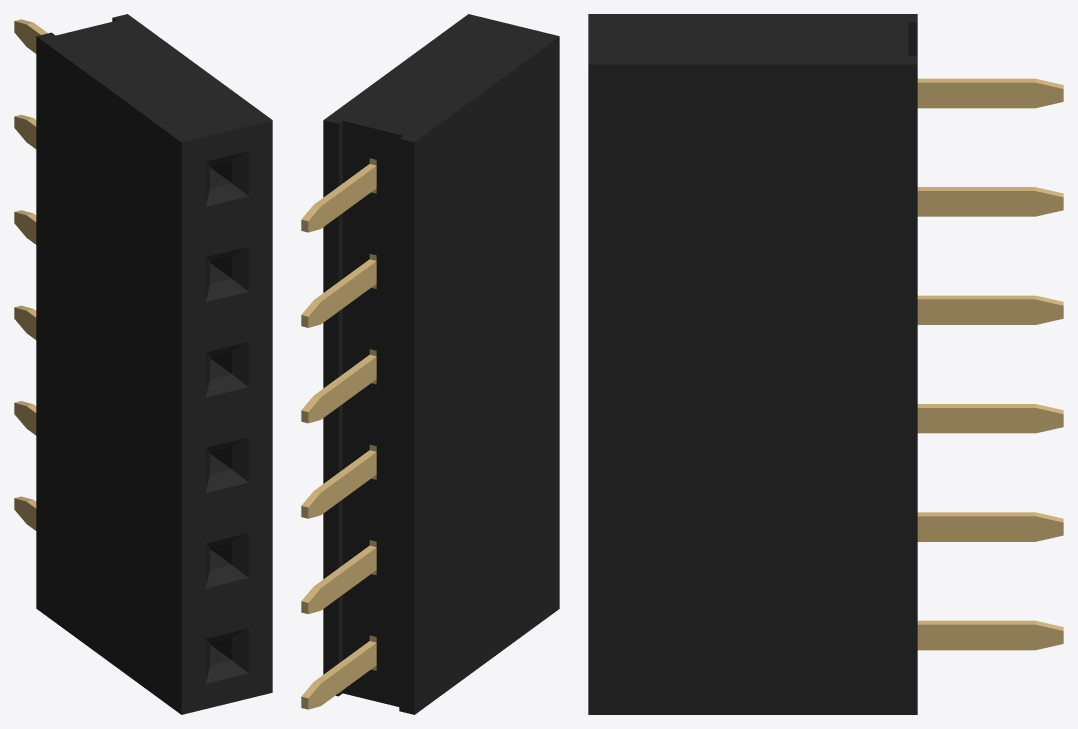
File: PinSocket_1x06_P2.54mm_Vertical.glb
3 renders of one model, left to right at view 1: azimuth 30°, elevation 25°; view 2: azimuth 150°, elevation 25°; view 3: azimuth 270°, elevation 25°, orthographic. The views are drawn at different scales.
Parts seen in each view (by area): view 1: PinSocket_1x06_P254mm_Vertical_94bbaa, PinSocket_1x06_P254mm_Vertical_2e271b; view 2: PinSocket_1x06_P254mm_Vertical_94bbaa, PinSocket_1x06_P254mm_Vertical_2e271b; view 3: PinSocket_1x06_P254mm_Vertical_94bbaa, PinSocket_1x06_P254mm_Vertical_2e271b.
Part boxes in pixels (box(x1,y1,x2,y2)): PinSocket_1x06_P254mm_Vertical_94bbaa: box(36, 14, 272, 714); PinSocket_1x06_P254mm_Vertical_2e271b: box(14, 19, 47, 530); PinSocket_1x06_P254mm_Vertical_94bbaa: box(323, 14, 559, 714); PinSocket_1x06_P254mm_Vertical_2e271b: box(301, 158, 376, 709); PinSocket_1x06_P254mm_Vertical_94bbaa: box(588, 14, 917, 714); PinSocket_1x06_P254mm_Vertical_2e271b: box(917, 78, 1063, 650).
Size of the model in its own units: 0.00254 by 0.0152 by 0.0101.
